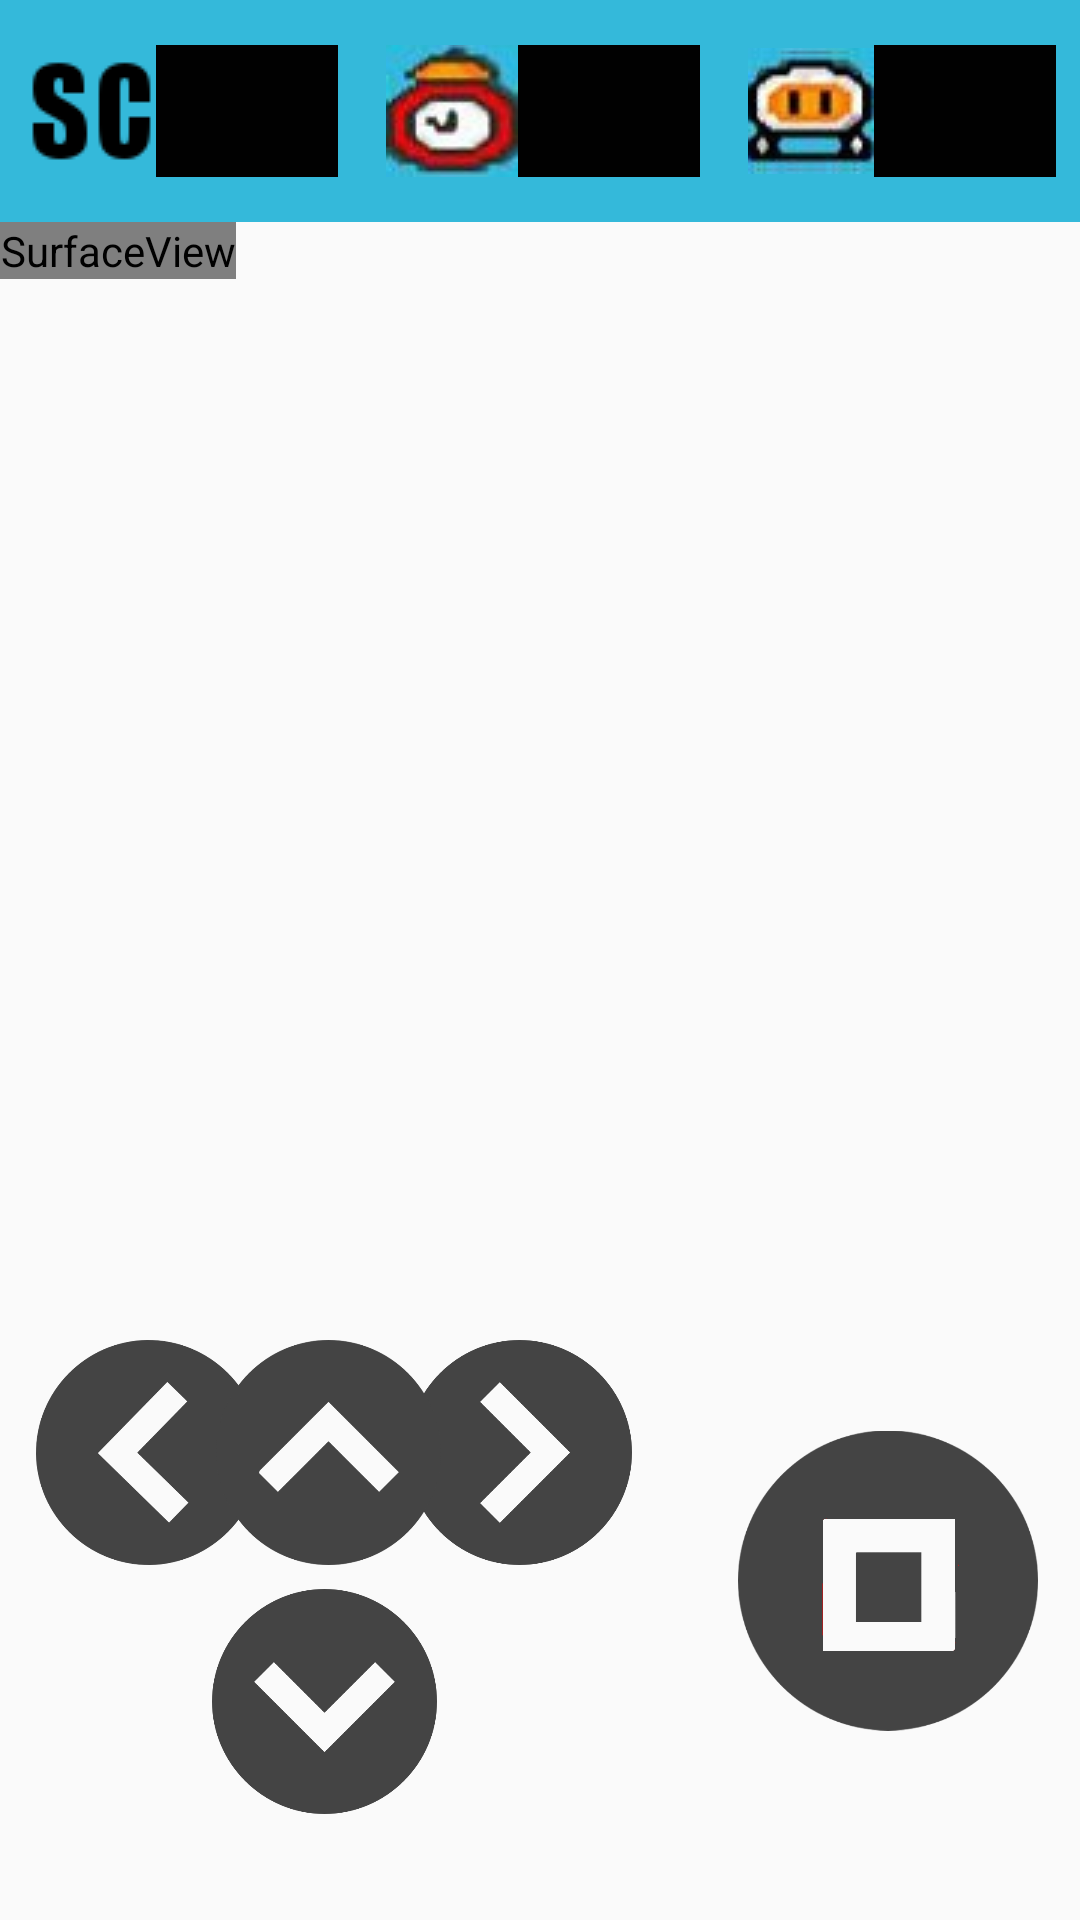

Where icons sit on this 1080*1920 app screen, as region(x1, y1, x2, y2):
arrow down: region(212, 1589, 437, 1814)
arrow left: region(36, 1340, 261, 1565)
arrow right: region(407, 1340, 632, 1565)
arrow up: region(216, 1340, 441, 1565)
Time left: region(386, 45, 518, 177)
